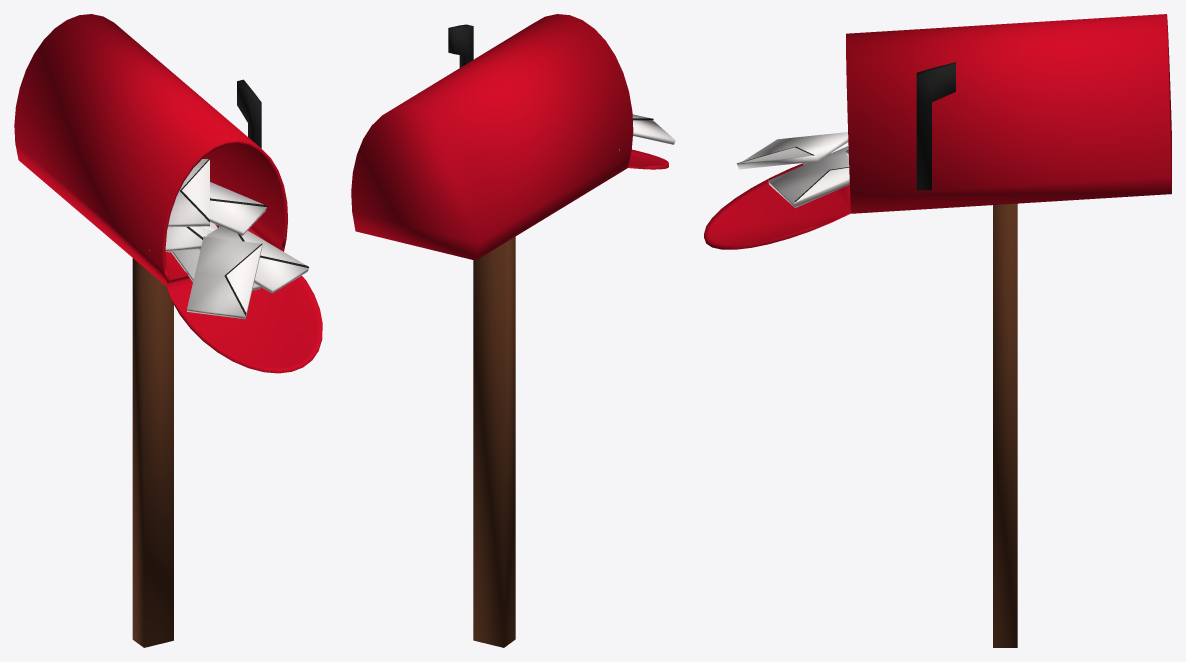
File: posta kutusu(dolu hali).fbx
3 views of the same model, side by side, from view 1: azimuth 30°, elevation 25°; view 2: azimuth 150°, elevation 25°; view 3: azimuth 270°, elevation 25° (orthographic). The views are drawn at different scales.
Parts seen in each view (by area): view 1: Cube.001; view 2: Cube.001; view 3: Cube.001.
Boxes of the visible parts, left/top/right/bottom form: Cube.001: left=14, top=14, right=322, bottom=647; Cube.001: left=351, top=14, right=675, bottom=647; Cube.001: left=704, top=14, right=1171, bottom=647.
Bounding box in the file's own units: 21.26 × 83.55 × 57.02.
1 material, 1 textured.
